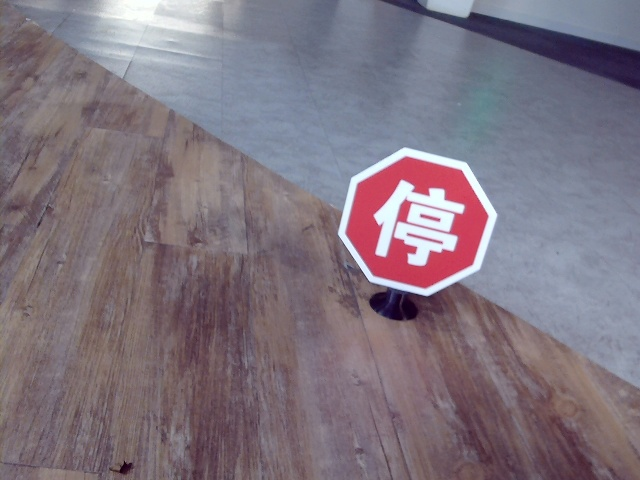stop: (374, 176, 459, 265)
